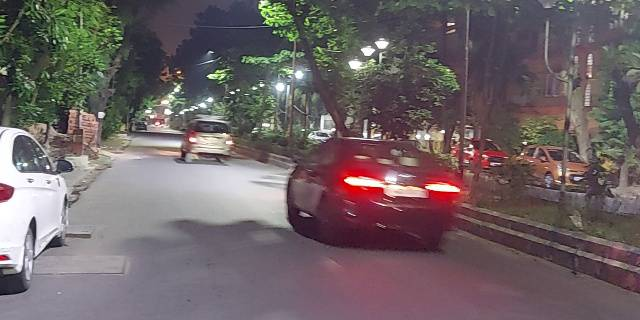Car: (283, 139, 458, 247), (181, 115, 232, 163)
